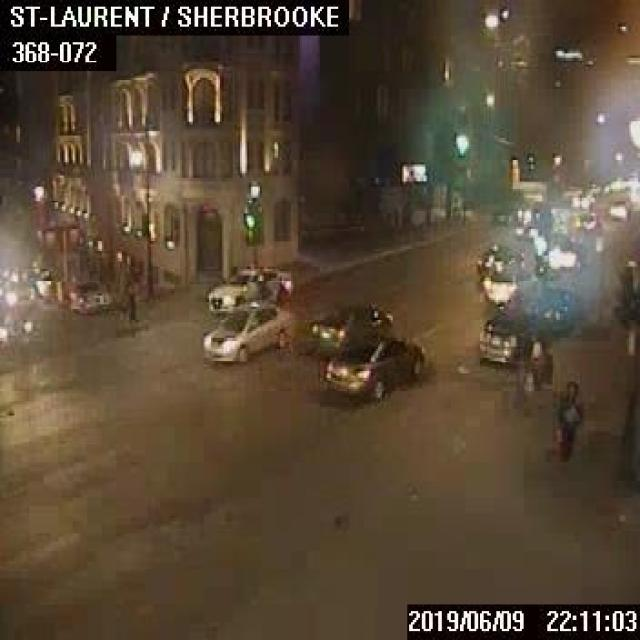pedestrian: (551, 380, 584, 464), (122, 281, 137, 321)
vehicle: (476, 282, 580, 364), (325, 333, 426, 398), (202, 300, 293, 358), (205, 262, 291, 312), (309, 301, 391, 347), (476, 238, 533, 279), (0, 306, 31, 358), (69, 279, 108, 313), (0, 276, 35, 306), (609, 196, 628, 220)
